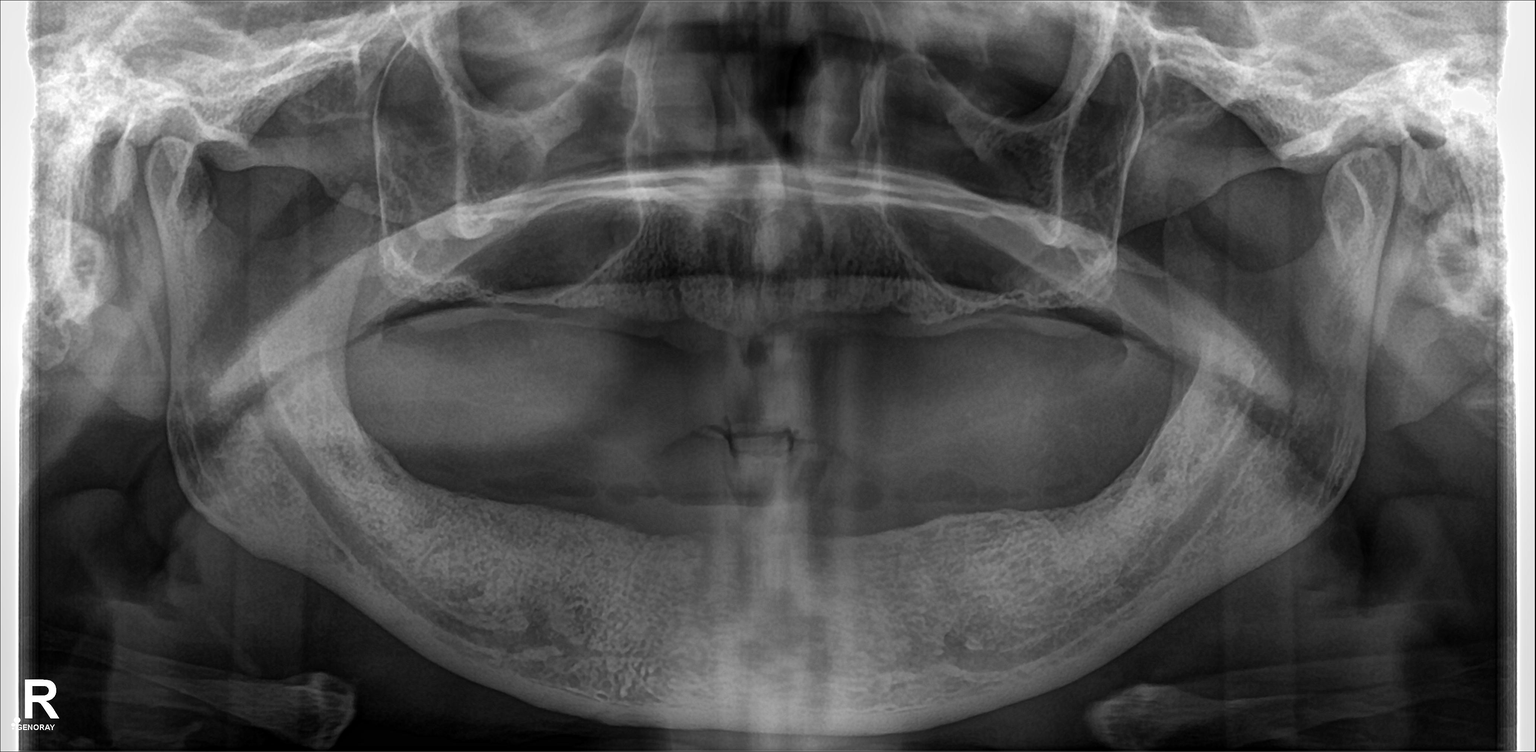Missing Tooth: (689, 207, 745, 313), (356, 248, 410, 353), (527, 223, 577, 329), (771, 450, 819, 560), (726, 452, 772, 559), (931, 456, 971, 576), (873, 456, 919, 560), (758, 210, 803, 314), (592, 220, 635, 325), (667, 458, 712, 557), (425, 240, 472, 334), (991, 463, 1031, 573), (454, 448, 510, 526), (352, 415, 398, 503), (479, 240, 520, 335), (518, 460, 563, 544), (1138, 421, 1177, 514), (404, 419, 445, 502), (829, 452, 861, 557), (641, 222, 679, 310), (1089, 450, 1125, 542), (624, 458, 658, 553), (570, 462, 609, 544), (1039, 454, 1071, 553), (814, 205, 849, 295), (864, 207, 894, 297), (1063, 220, 1088, 311), (1015, 220, 1044, 298), (913, 205, 937, 295), (944, 212, 971, 283), (983, 208, 1004, 295)
